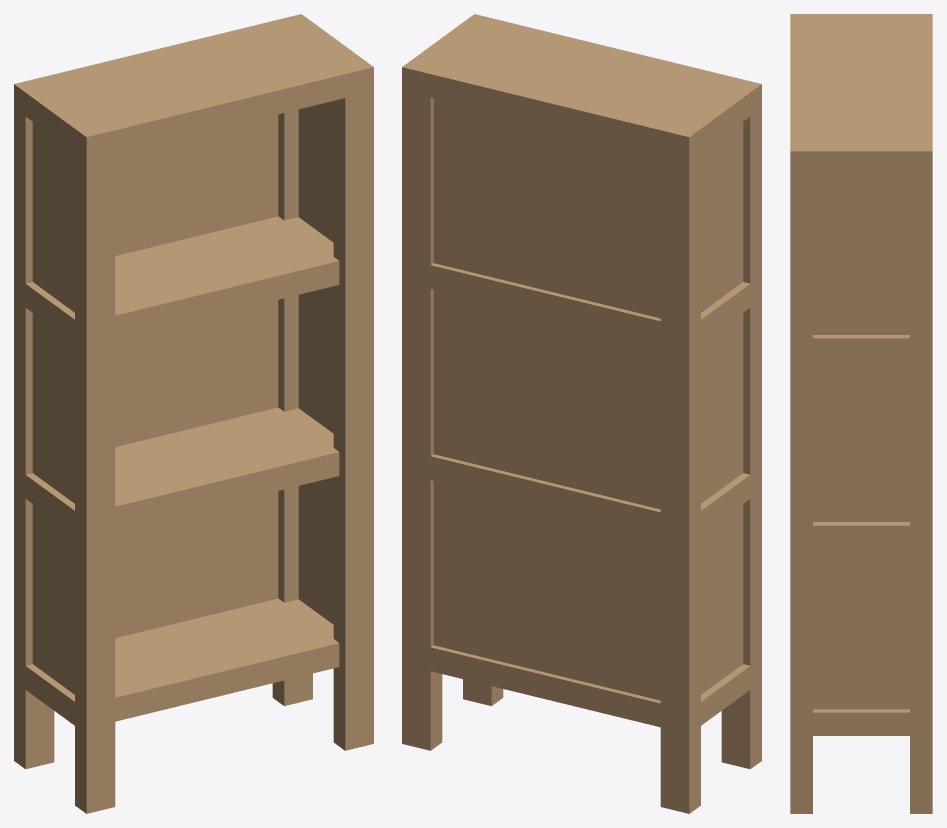
File: bookcase-closed.glb
3 renders of one model, left to right at view 1: azimuth 30°, elevation 25°; view 2: azimuth 150°, elevation 25°; view 3: azimuth 270°, elevation 25°, orthographic. The views are drawn at different scales.
Parts seen in each view (by area): view 1: bookcase-closed; view 2: bookcase-closed; view 3: bookcase-closed.
Boxes of the visible parts, box(x1,y1,x2,y2) form: bookcase-closed: box(14, 14, 373, 813); bookcase-closed: box(402, 14, 761, 813); bookcase-closed: box(790, 14, 932, 813).
Bounding box in the file's own units: 0.8 × 1.8 × 0.35.
